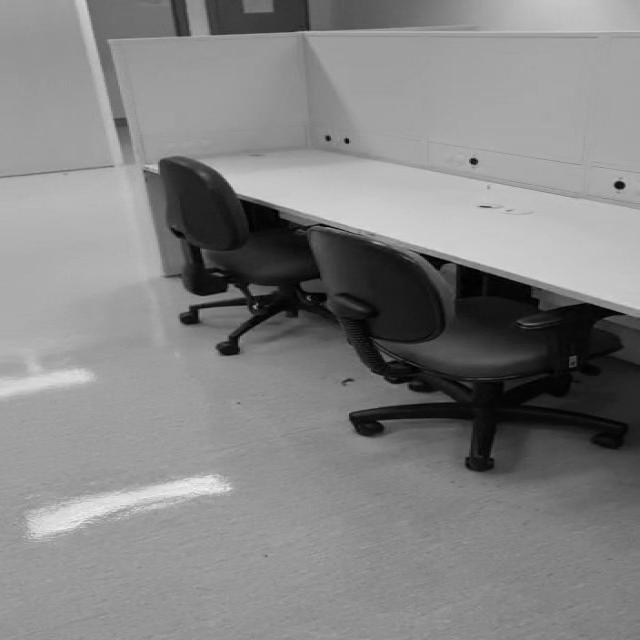cadeira-azul: (159, 157, 341, 355)
